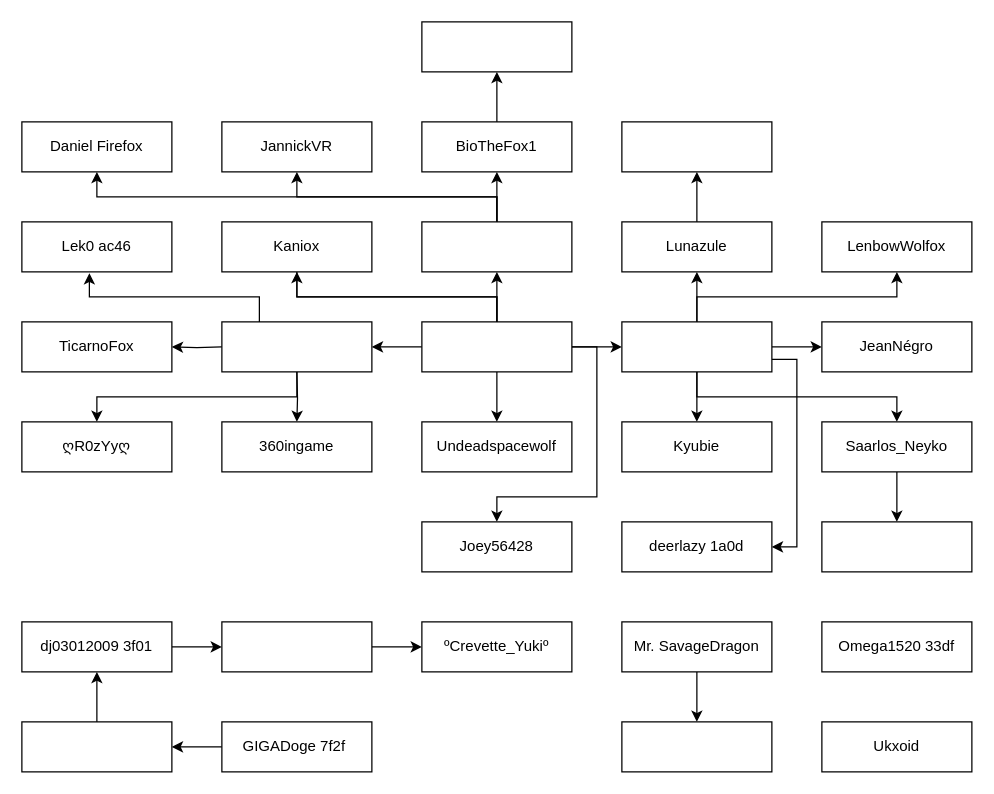
The diagram is 994 pixels wide and 794 high, and some of its shapes have lost their labels. The centre of each missing label's shape, as x and y in pixels:
"Eman 928a" goes at (696,746).
"Fяσѕту" goes at (496,346).
"Masterking12" goes at (96,746).
"Mr T 9b07" goes at (296,646).
"Onyxe Yeen" goes at (496,246).
"Passionatefurry" goes at (496,46).
"Sky_Mitou" goes at (896,546).
"SoukyDoggo" goes at (696,346).
"Wilitox" goes at (696,146).
"「Kio_Qc - キオ」" goes at (296,346).
